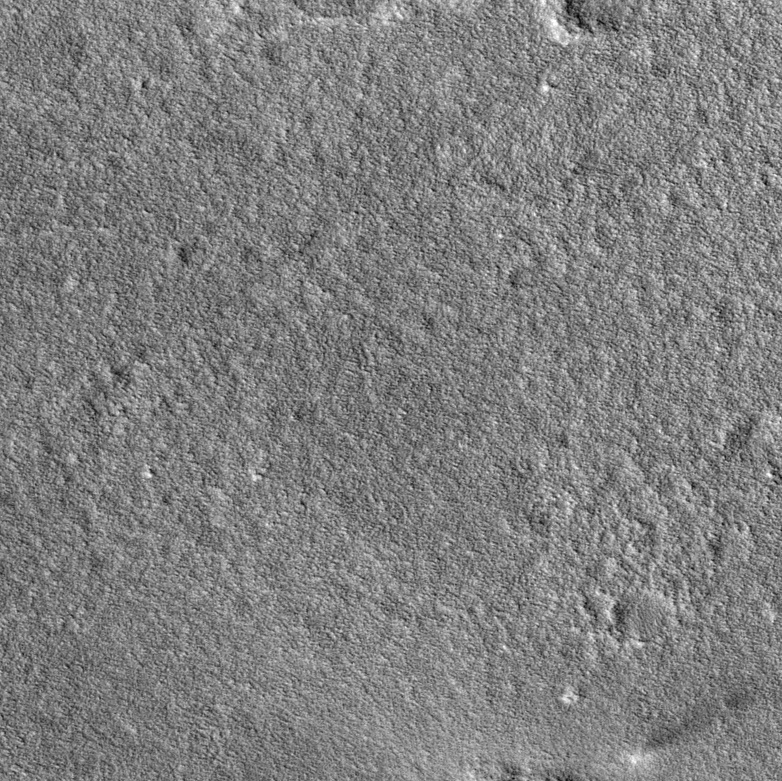dust_devil: (625, 687, 759, 769)
